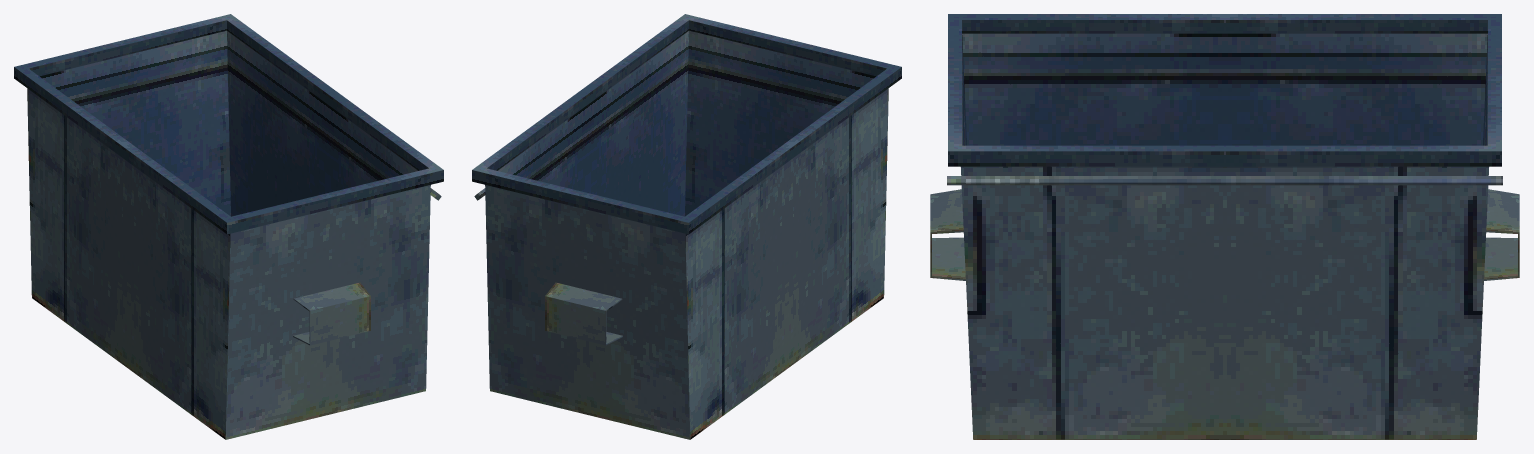
Rendered from dumpster_empty_no_lid_blue.glb.
3 renders of one model, left to right at view 1: azimuth 30°, elevation 25°; view 2: azimuth 150°, elevation 25°; view 3: azimuth 270°, elevation 25°, orthographic. The views are drawn at different scales.
Parts seen in each view (by area): view 1: dumpster_empty_no_lid_blue; view 2: dumpster_empty_no_lid_blue; view 3: dumpster_empty_no_lid_blue.
Boxes of the visible parts, <box> form: dumpster_empty_no_lid_blue: <box>14,14,443,439</box>; dumpster_empty_no_lid_blue: <box>472,14,901,439</box>; dumpster_empty_no_lid_blue: <box>930,14,1519,439</box>.
Size of the model in its own units: 2.03 by 2.02 by 3.67.
1 material, 1 textured.
